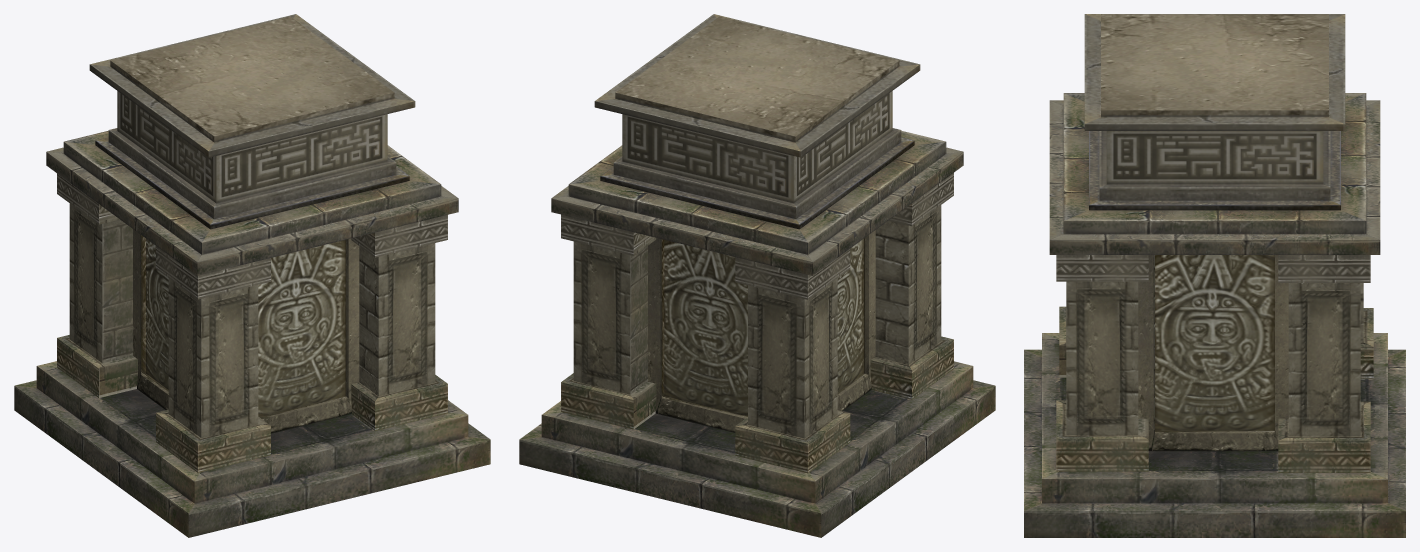
File: BraTrace001.FBX
3 views of the same model, side by side, from view 1: azimuth 30°, elevation 25°; view 2: azimuth 150°, elevation 25°; view 3: azimuth 270°, elevation 25° (orthographic). The views are drawn at different scales.
Visible parts, largest first — view 1: BraTrace001; view 2: BraTrace001; view 3: BraTrace001.
Part boxes in pixels (left/top/right/bottom): BraTrace001: left=14, top=14, right=490, bottom=537; BraTrace001: left=519, top=14, right=995, bottom=537; BraTrace001: left=1024, top=14, right=1405, bottom=537.
Size of the model in its own units: 884 by 1009 by 884.
